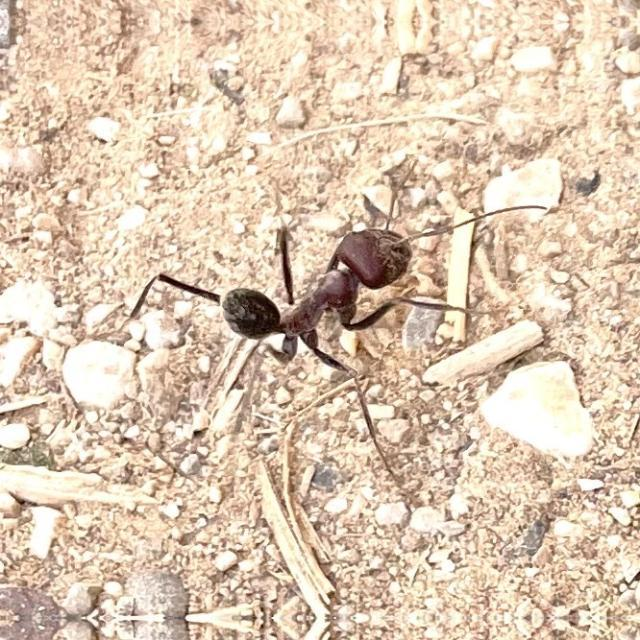Cataglyphis: (188, 194, 444, 380)
